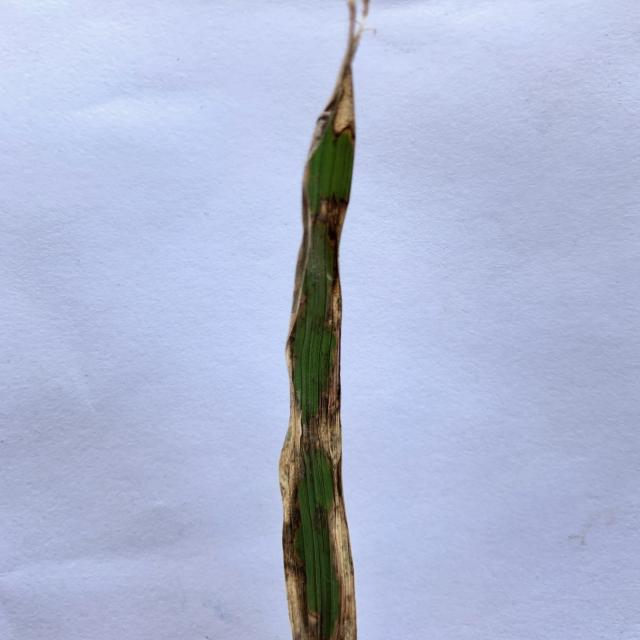leaf blight: (322, 489, 369, 640), (326, 0, 373, 138), (276, 391, 312, 528), (286, 202, 318, 356), (281, 531, 324, 640), (311, 350, 342, 466), (324, 278, 348, 338)
